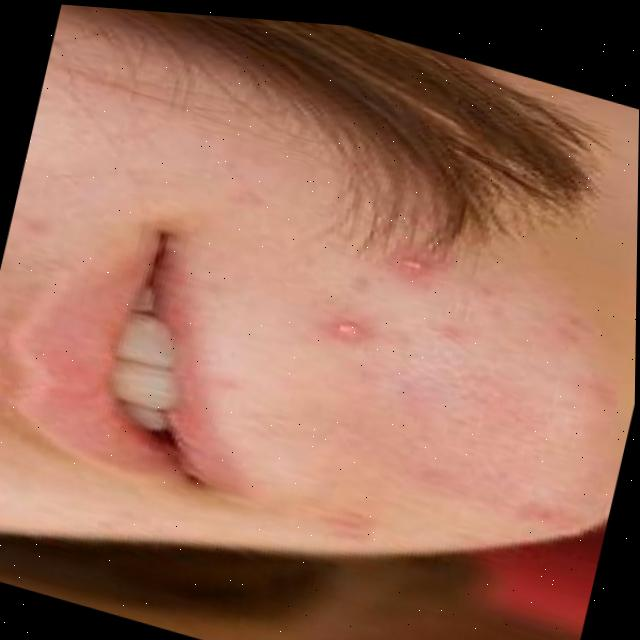Acne: (332, 235, 470, 404), (309, 484, 372, 549), (517, 482, 565, 517)
